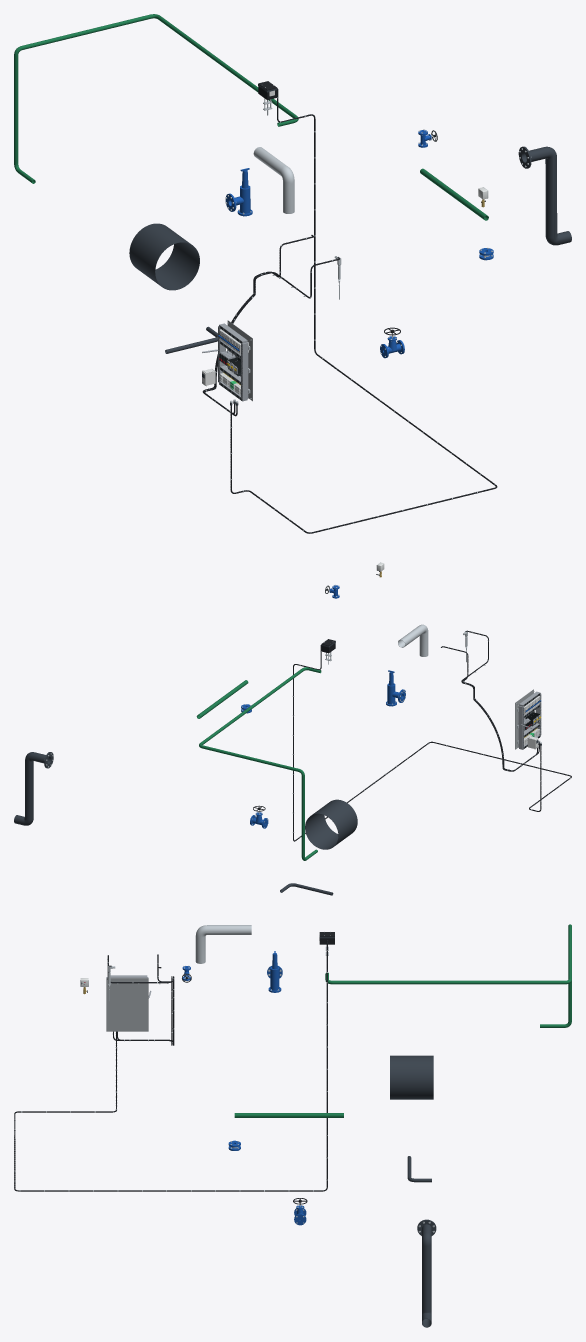
The picture shows the model from 3 angles, top to bottom: view 1: azimuth 30°, elevation 25°; view 2: azimuth 150°, elevation 25°; view 3: azimuth 270°, elevation 25°; orthographic projection. The views are drawn at different scales.
Visible parts, largest first — view 1: flue_spacer / dark, cabinet_interior / cabinet_interior_0.npz, from_economizer / green, mod_direct_drive_cable / black, bdv_water_drain / dark, steam_rise / steel, safety_1 / blue; view 2: flue_spacer / dark, from_economizer / green, cabinet_interior / cabinet_interior_0.npz, bdv_water_drain / dark, mod_direct_drive_cable / black, steam_rise / steel; view 3: cabinet_interior / cabinet_interior_0.npz, flue_spacer / dark, from_economizer / green, mod_direct_drive_cable / black, bdv_water_drain / dark, steam_rise / steel, pump_delivery / green.
Part boxes in pixels (x1,y1,x2,y2): flue_spacer / dark: [129, 223, 199, 290]; cabinet_interior / cabinet_interior_0.npz: [202, 320, 252, 401]; from_economizer / green: [14, 14, 298, 183]; mod_direct_drive_cable / black: [230, 88, 497, 533]; bdv_water_drain / dark: [518, 146, 571, 245]; steam_rise / steel: [253, 147, 294, 213]; safety_1 / blue: [225, 168, 252, 216]; flue_spacer / dark: [305, 799, 357, 849]; from_economizer / green: [199, 667, 321, 860]; cabinet_interior / cabinet_interior_0.npz: [515, 689, 541, 749]; bdv_water_drain / dark: [14, 752, 53, 825]; mod_direct_drive_cable / black: [293, 645, 571, 841]; steam_rise / steel: [398, 624, 428, 656]; cabinet_interior / cabinet_interior_0.npz: [106, 975, 151, 1031]; flue_spacer / dark: [390, 1055, 433, 1099]; from_economizer / green: [325, 924, 571, 1027]; mod_direct_drive_cable / black: [14, 941, 327, 1191]; bdv_water_drain / dark: [417, 1219, 436, 1327]; steam_rise / steel: [195, 925, 251, 963]; pump_delivery / green: [234, 1113, 343, 1117].
Size of the model in its own units: 5.99 by 3.13 by 6.39.
